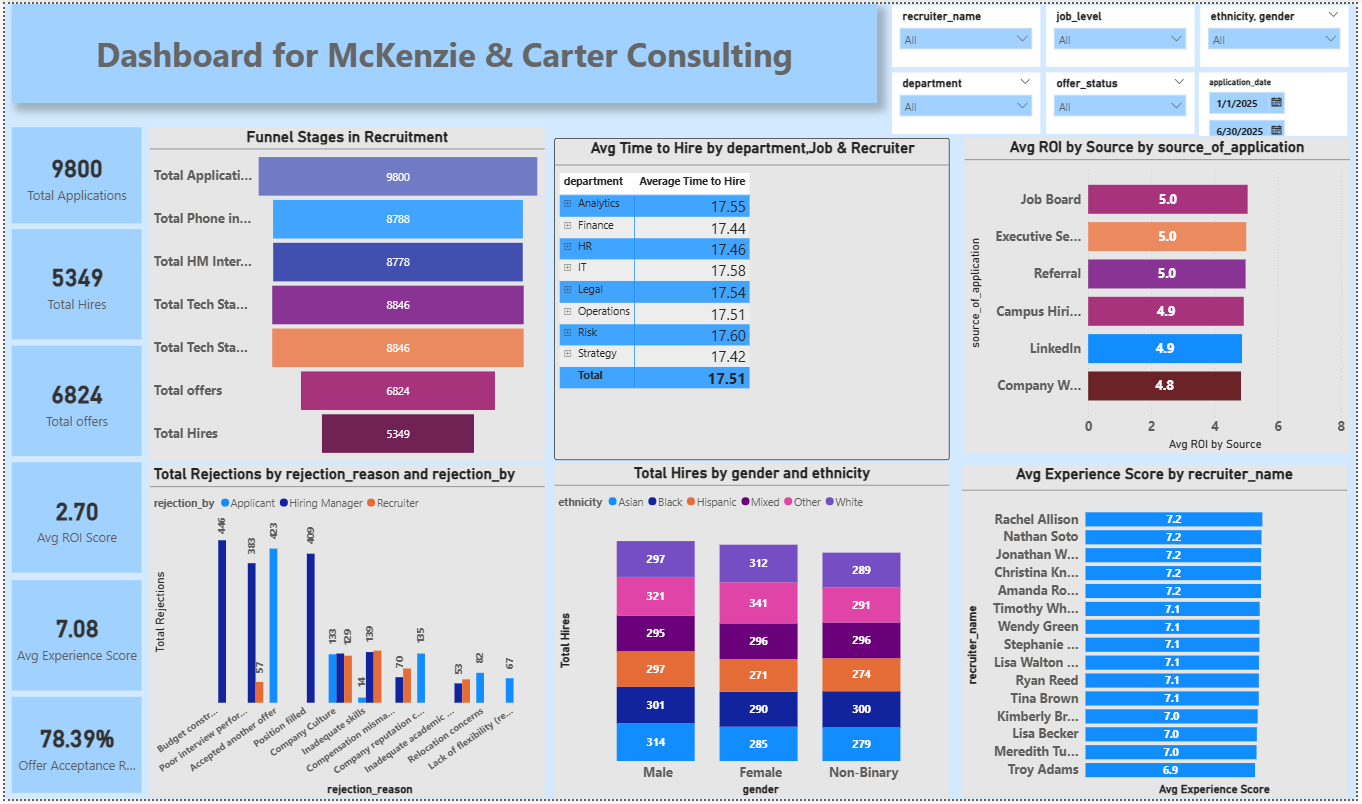

The dashboard page shown, as its layout file describes it:
{"tool":"powerbi","page":{"name":"Page 1","canvas":[1700,1000],"ordinal":0},"visuals":[{"type":"card","fields":{"Values":["Key Measures.Total Applications"]},"box":[8.2,155.5,163.7,120.7],"z":0},{"type":"card","fields":{"Values":["Key Measures.Total Hires"]},"box":[8.2,282.4,163.7,139.2],"z":1000},{"type":"card","fields":{"Values":["Key Measures.Total offers"]},"box":[8.2,429.8,163.7,139.2],"z":2000},{"type":"card","fields":{"Values":["Key Measures.Average ROI Score"]},"box":[8.2,577.2,163.7,139.2],"z":3000},{"type":"card","fields":{"Values":["Key Measures.Avg Experience Score"]},"box":[8.2,724.5,163.7,139.2],"z":4000},{"type":"card","fields":{"Values":["Key Measures.Offer Acceptance Rate %"]},"box":[8.2,871.9,163.7,120.7],"z":5000},{"type":"funnel","title":"Funnel Stages in Recruitment ","fields":{"Y":["Key Measures.Total Applications","Key Measures.Total Phone interviews","Key Measures.Total HM Interviews","Key Measures.Total Tech Stage1 interviews","Key Measures.Total Tech Stage2 interviews","Key Measures.Total offers","Key Measures.Total Hires"]},"box":[182.2,155.5,497.3,419.6],"z":6000},{"type":"pivotTable","title":"Avg Time to Hire by department,Job & Recruiter","fields":{"Values":["Key Measures.Average Time to Hire"],"Rows":["public mackenzie_carter_consulting.department","public mackenzie_carter_consulting.job_title","public mackenzie_carter_consulting.recruitment_type"]},"box":[691.8,167.8,497.3,405.2],"z":7000},{"type":"clusteredBarChart","fields":{"Y":["Key Measures.Avg ROI by Source"],"Category":["public mackenzie_carter_consulting.source_of_application"]},"box":[1207.5,167.8,485.1,397.1],"z":8000},{"type":"clusteredColumnChart","fields":{"Category":["public mackenzie_carter_consulting.rejection_reason"],"Y":["Key Measures.Total Rejections"],"Series":["public mackenzie_carter_consulting.rejection_by"]},"box":[182.2,580.4,497.3,419.6],"z":9000},{"type":"columnChart","fields":{"Category":["public mackenzie_carter_consulting.gender"],"Series":["public mackenzie_carter_consulting.ethnicity"],"Y":["Key Measures.Total Hires"]},"box":[691.8,578.4,497.3,421.6],"z":10000},{"type":"barChart","fields":{"Category":["public mackenzie_carter_consulting.recruiter_name"],"Y":["Key Measures.Avg Experience Score"]},"box":[1203.5,579.2,485.1,419.6],"z":11000},{"type":"shape","box":[8.2,0,1088.8,124.8],"z":12000},{"type":"slicer","fields":{"Values":["public mackenzie_carter_consulting.department"]},"box":[1115.4,86,186.2,77.8],"z":13000},{"type":"slicer","fields":{"Values":["public mackenzie_carter_consulting.recruiter_name"]},"box":[1115.4,2,186.2,77.8],"z":14000},{"type":"slicer","fields":{"Values":["public mackenzie_carter_consulting.job_level"]},"box":[1309.9,2,186.2,77.8],"z":15000},{"type":"slicer","fields":{"Values":["public mackenzie_carter_consulting.ethnicity","public mackenzie_carter_consulting.gender"]},"box":[1504.3,2,186.2,77.8],"z":16000},{"type":"slicer","fields":{"Values":["public mackenzie_carter_consulting.offer_status"]},"box":[1309.9,86,186.2,77.8],"z":17000},{"type":"slicer","fields":{"Values":["public mackenzie_carter_consulting.application_date"]},"box":[1502.3,86,186.2,79.8],"z":18000}]}

Visuals, with their boxes in screenshot pixels (x1, y1, x2, y2), scaled from the page's 1700x1000 canvas onto the 1362x804 screenshot:
card - Key Measures.Total Applications: locate(7, 125, 138, 222)
card - Key Measures.Total Hires: locate(7, 227, 138, 339)
card - Key Measures.Total offers: locate(7, 346, 138, 457)
card - Key Measures.Average ROI Score: locate(7, 464, 138, 576)
card - Key Measures.Avg Experience Score: locate(7, 582, 138, 694)
card - Key Measures.Offer Acceptance Rate %: locate(7, 701, 138, 798)
"Funnel Stages in Recruitment " funnel: locate(146, 125, 544, 462)
"Avg Time to Hire by department,Job & Recruiter" pivotTable: locate(554, 135, 953, 461)
clusteredBarChart - Key Measures.Avg ROI by Source x public mackenzie_carter_consulting.source_of_application: locate(967, 135, 1356, 454)
clusteredColumnChart - public mackenzie_carter_consulting.rejection_reason x Key Measures.Total Rejections: locate(146, 467, 544, 803)
columnChart - public mackenzie_carter_consulting.gender x public mackenzie_carter_consulting.ethnicity: locate(554, 465, 953, 803)
barChart - public mackenzie_carter_consulting.recruiter_name x Key Measures.Avg Experience Score: locate(964, 466, 1353, 803)
shape: locate(7, 0, 879, 100)
slicer - public mackenzie_carter_consulting.department: locate(894, 69, 1043, 132)
slicer - public mackenzie_carter_consulting.recruiter_name: locate(894, 2, 1043, 64)
slicer - public mackenzie_carter_consulting.job_level: locate(1049, 2, 1199, 64)
slicer - public mackenzie_carter_consulting.ethnicity x public mackenzie_carter_consulting.gender: locate(1205, 2, 1354, 64)
slicer - public mackenzie_carter_consulting.offer_status: locate(1049, 69, 1199, 132)
slicer - public mackenzie_carter_consulting.application_date: locate(1204, 69, 1353, 133)
